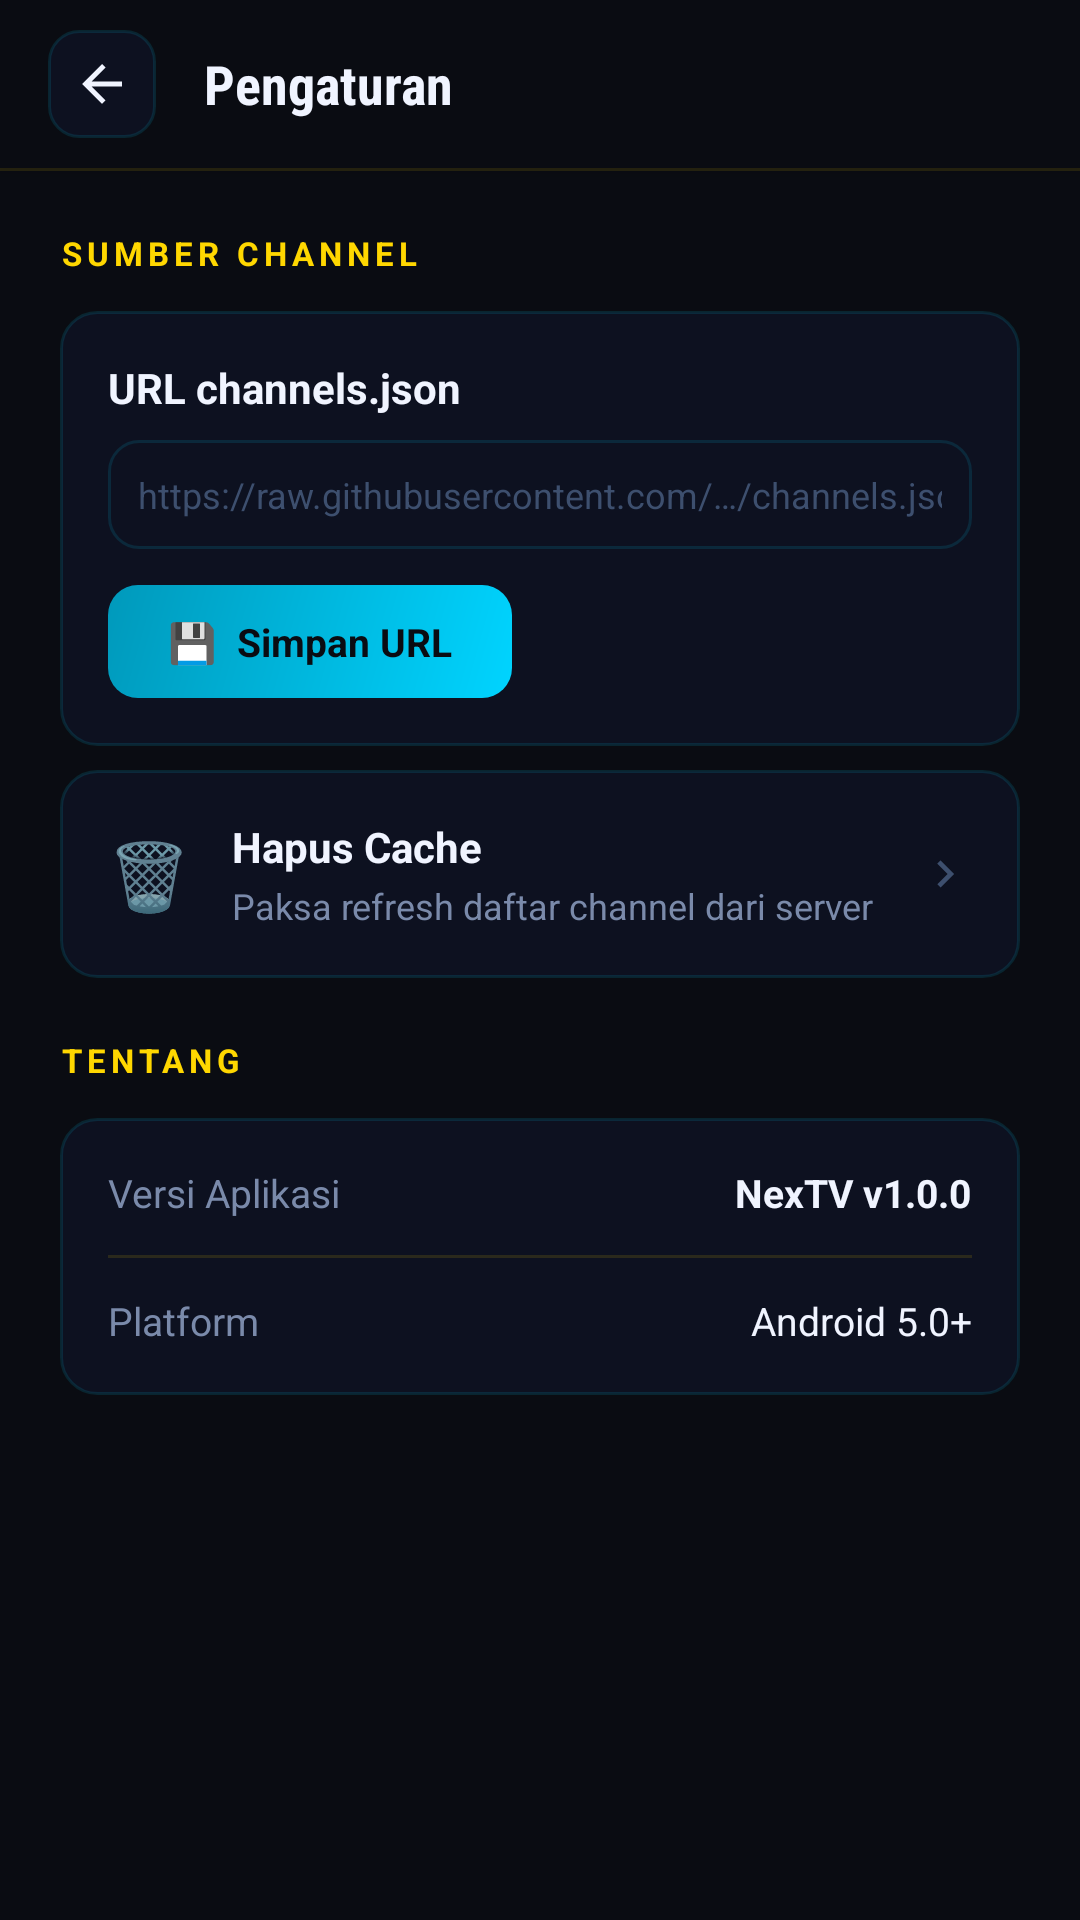

Icons on this 1080px x 1920px Android screen, each with the point to tap as point (x, y):
arrow right: point (945, 873)
back: point (102, 84)
